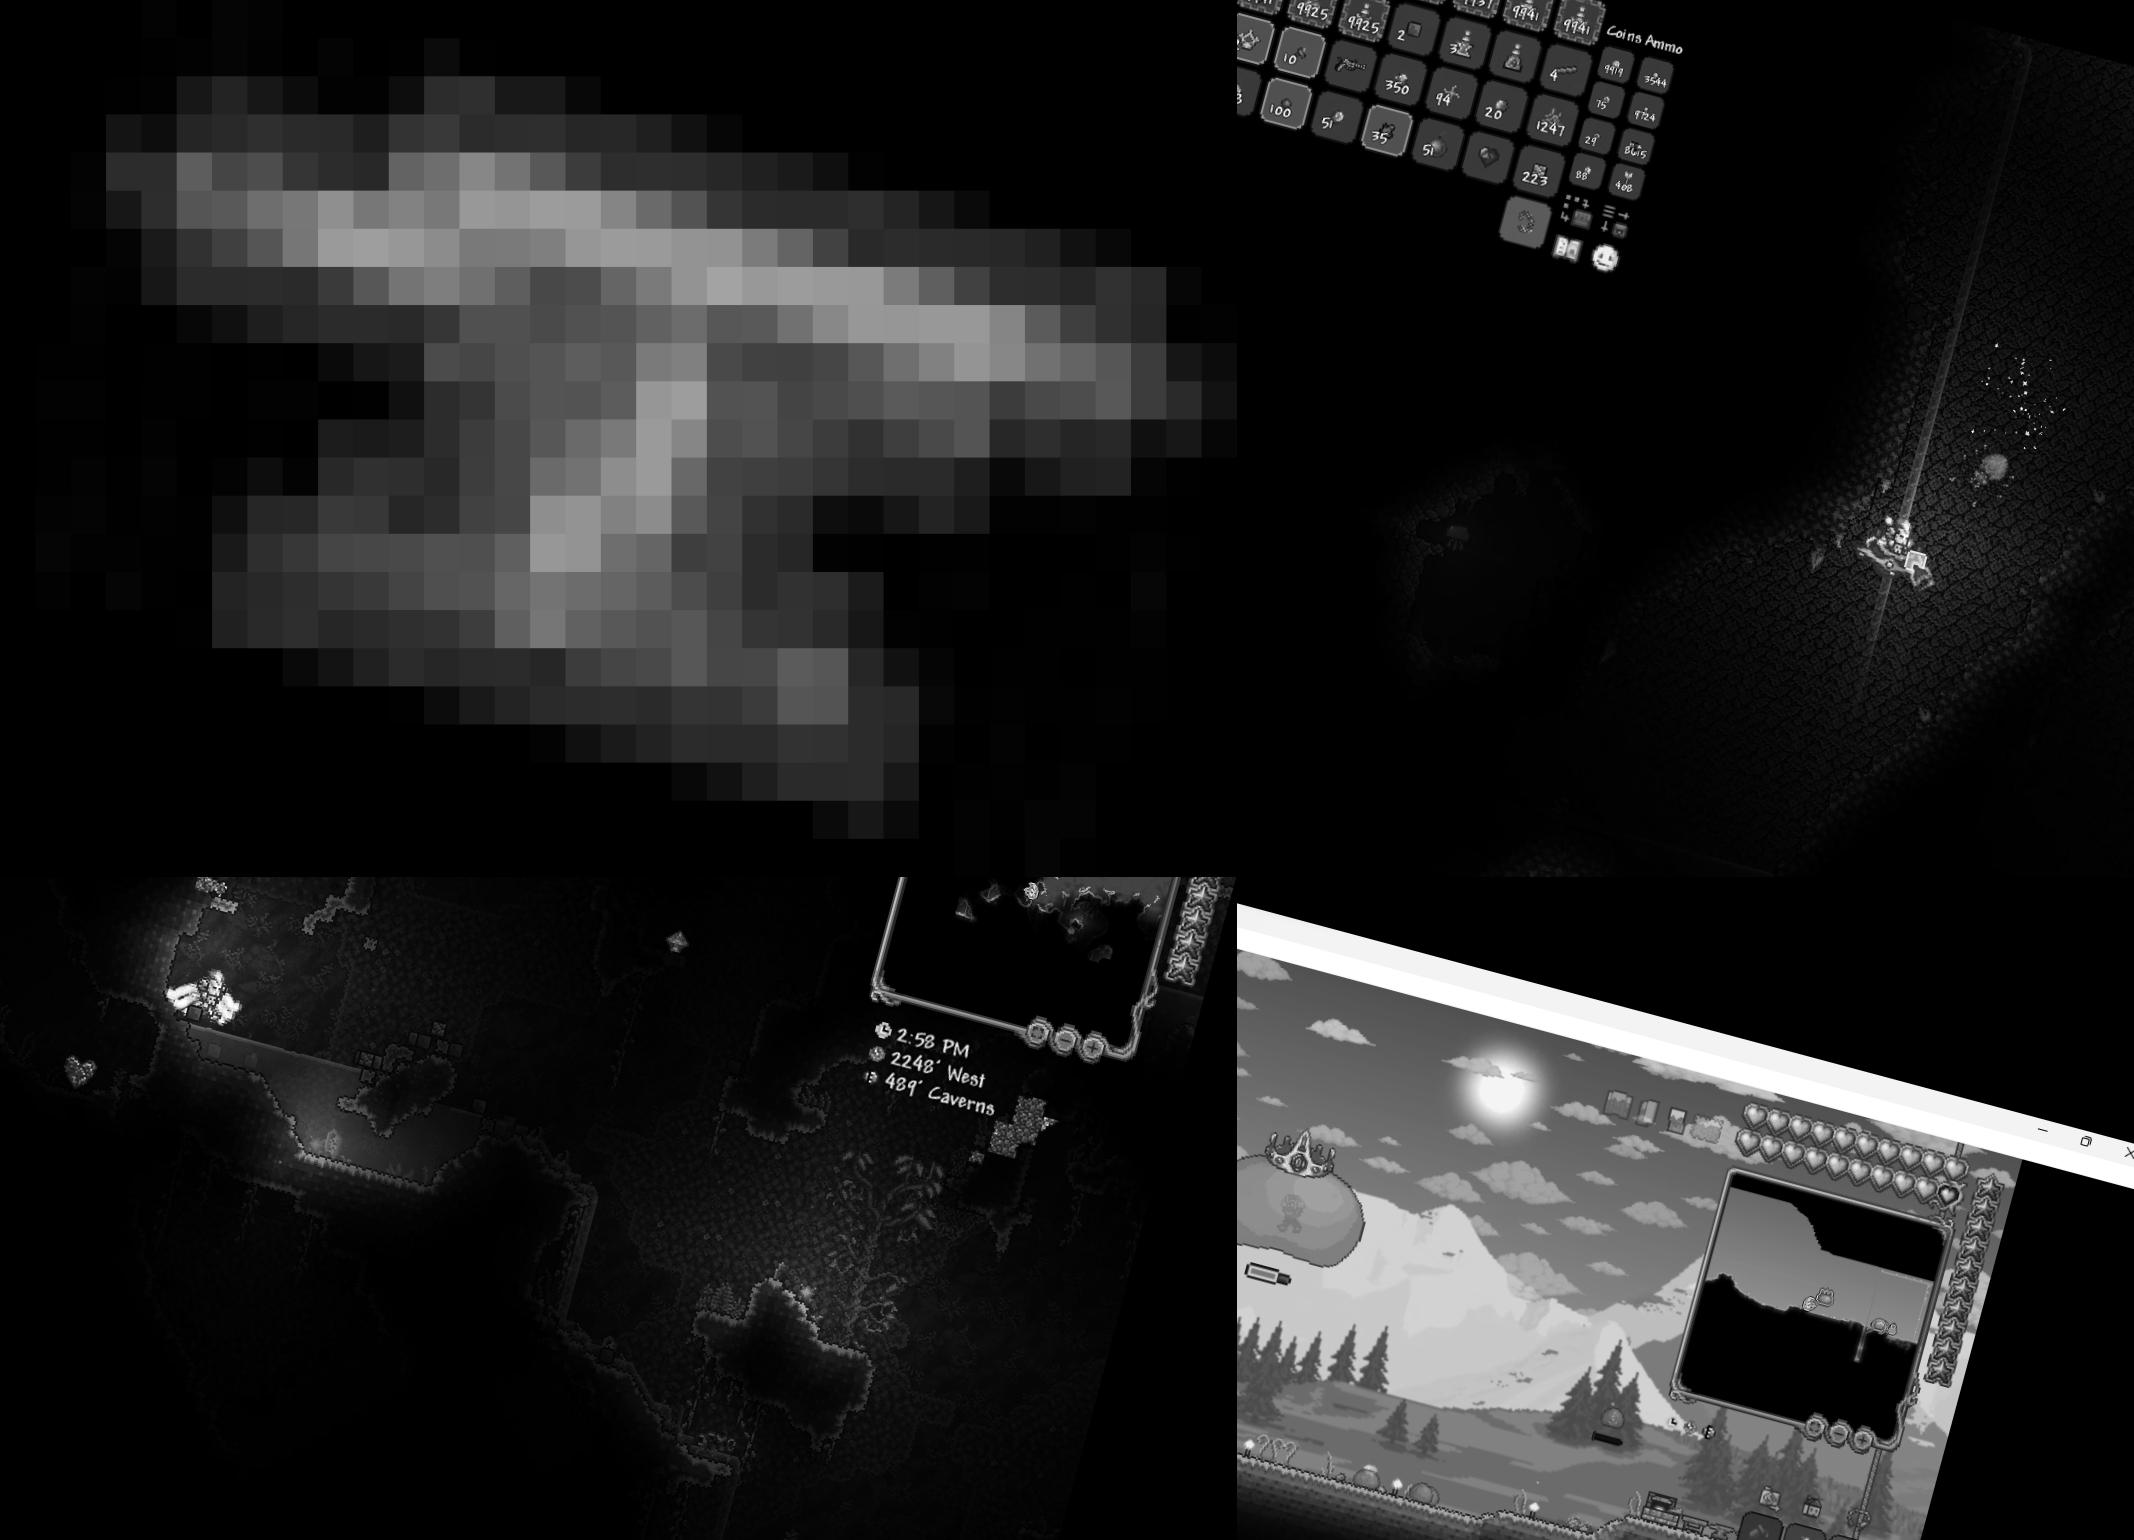anvil: (0, 0, 1238, 877), (1703, 1512, 1735, 1540)
lifeC: (58, 1051, 99, 1094)
